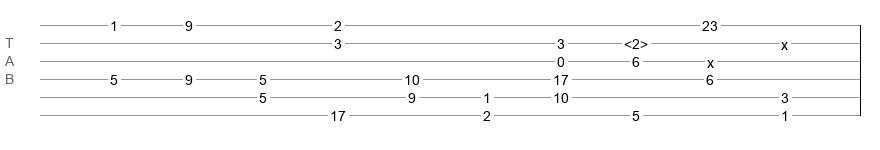0: (557, 54, 565, 64)
1: (110, 18, 118, 28), (483, 90, 491, 100), (781, 108, 789, 118)
10: (404, 72, 420, 82), (553, 90, 569, 100)
17: (330, 108, 346, 118), (553, 72, 569, 82)
2: (334, 18, 342, 28), (483, 108, 491, 118)
23: (702, 18, 718, 28)
3: (334, 36, 342, 46), (557, 36, 565, 46), (781, 90, 789, 100)
5: (110, 72, 118, 82), (259, 72, 267, 82), (259, 90, 267, 100), (632, 108, 640, 118)
6: (632, 54, 640, 64), (706, 72, 714, 82)
9: (185, 72, 193, 82), (185, 18, 193, 28), (408, 90, 416, 100)
harmonic: (624, 36, 648, 46)
x: (707, 55, 714, 63), (781, 37, 788, 45)
